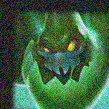Zac: (16, 11, 107, 109)
